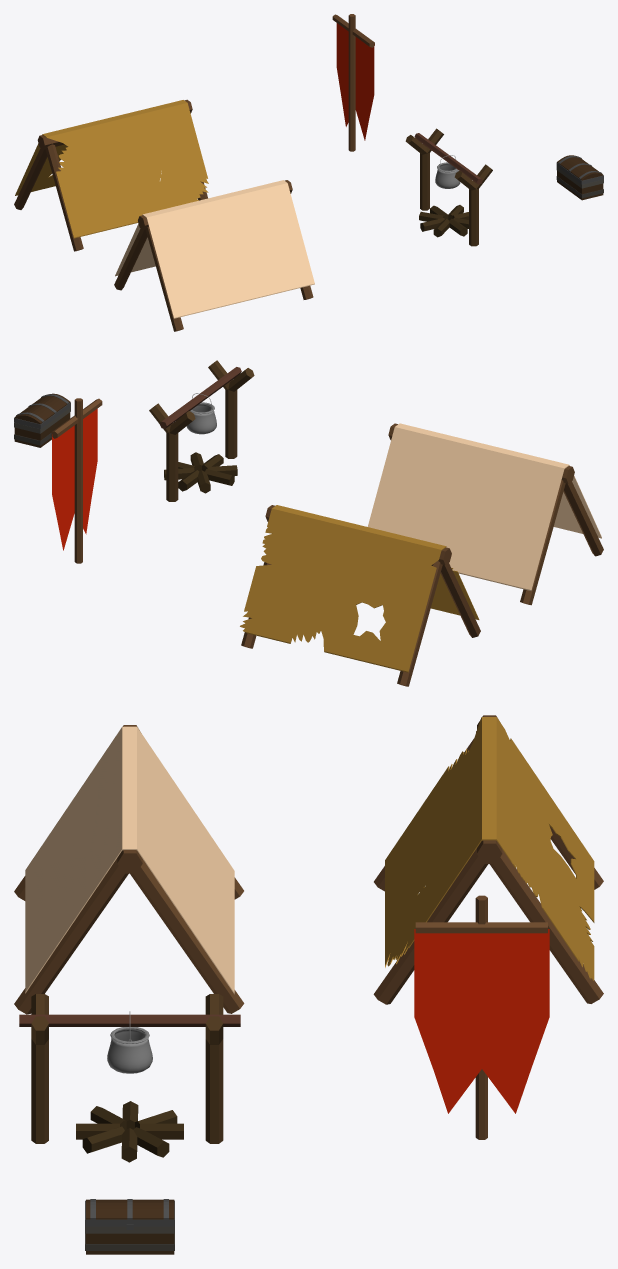
File: CampamentoAband.fbx
3 renders of one model, top to bottom at view 1: azimuth 30°, elevation 25°; view 2: azimuth 150°, elevation 25°; view 3: azimuth 270°, elevation 25°, orthographic. The views are drawn at different scales.
Visible parts, largest first — view 1: Carpa, Carpa rota, Plane, TiendaRota, Tienda1, Cylinder.004, Cylinder, Cylinder.001, Cylinder.002, Cylinder.003, tapa, BezierCurve; view 2: Carpa rota, Carpa, Plane, TiendaRota, Tienda1, Cylinder.004, Cylinder, Cylinder.002, Cylinder.001, Cylinder.003, tapa, BezierCurve (+2 smaller); view 3: Carpa, Carpa rota, Plane, Tienda1, TiendaRota, Cylinder, Cylinder.004, Cylinder.002, Cylinder.001, Cylinder.003, BezierCurve, tapa (+2 smaller).
Part boxes in pixels (left/top/right/bottom): Carpa: left=115, top=180, right=314, bottom=318; Carpa rota: left=15, top=100, right=208, bottom=238; Plane: left=336, top=23, right=374, bottom=140; TiendaRota: left=14, top=99, right=207, bottom=251; Tienda1: left=114, top=180, right=313, bottom=331; Cylinder.004: left=332, top=14, right=374, bottom=151; Cylinder: left=419, top=205, right=468, bottom=237; Cylinder.001: left=454, top=164, right=492, bottom=246; Cylinder.002: left=405, top=128, right=443, bottom=210; Cylinder.003: left=414, top=133, right=482, bottom=184; tapa: left=557, top=155, right=603, bottom=180; BezierCurve: left=435, top=162, right=460, bottom=188; Carpa rota: left=240, top=505, right=479, bottom=672; Carpa: left=367, top=423, right=601, bottom=590; Plane: left=52, top=409, right=97, bottom=550; TiendaRota: left=241, top=505, right=480, bottom=686; Tienda1: left=388, top=423, right=603, bottom=605; Cylinder.004: left=51, top=398, right=102, bottom=563; Cylinder: left=164, top=452, right=237, bottom=493; Cylinder.002: left=149, top=403, right=195, bottom=501; Cylinder.001: left=208, top=360, right=254, bottom=458; Cylinder.003: left=160, top=367, right=241, bottom=428; tapa: left=14, top=393, right=70, bottom=424; BezierCurve: left=186, top=402, right=216, bottom=434; Carpa: left=25, top=726, right=234, bottom=994; Carpa rota: left=385, top=717, right=594, bottom=980; Plane: left=414, top=929, right=549, bottom=1113; Tienda1: left=14, top=725, right=244, bottom=1014; TiendaRota: left=373, top=715, right=603, bottom=1004; Cylinder: left=76, top=1101, right=183, bottom=1162; Cylinder.004: left=415, top=895, right=547, bottom=1139; Cylinder.002: left=205, top=994, right=223, bottom=1143; Cylinder.001: left=31, top=994, right=48, bottom=1143; Cylinder.003: left=19, top=1014, right=240, bottom=1026; BezierCurve: left=107, top=1027, right=152, bottom=1073; tapa: left=86, top=1199, right=174, bottom=1219.
Bounding box in the file's own units: 1048 × 332 × 669.
